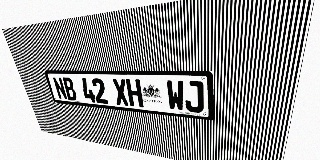2: (91, 78, 108, 104)
4: (80, 78, 96, 103)
B: (62, 77, 78, 101)
H: (125, 79, 144, 107)
J: (184, 80, 204, 113)
N: (52, 77, 68, 100)
W: (166, 80, 185, 111)
X: (112, 79, 130, 106)
